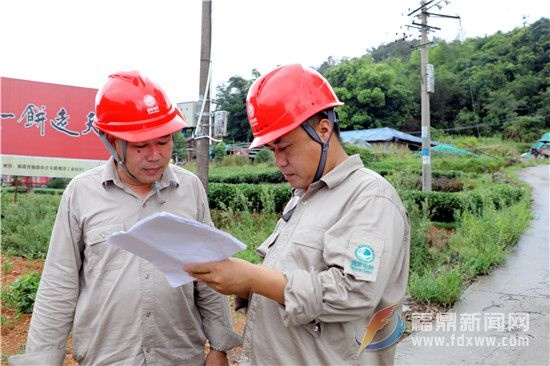red: (244, 58, 342, 187), (90, 65, 182, 188)
